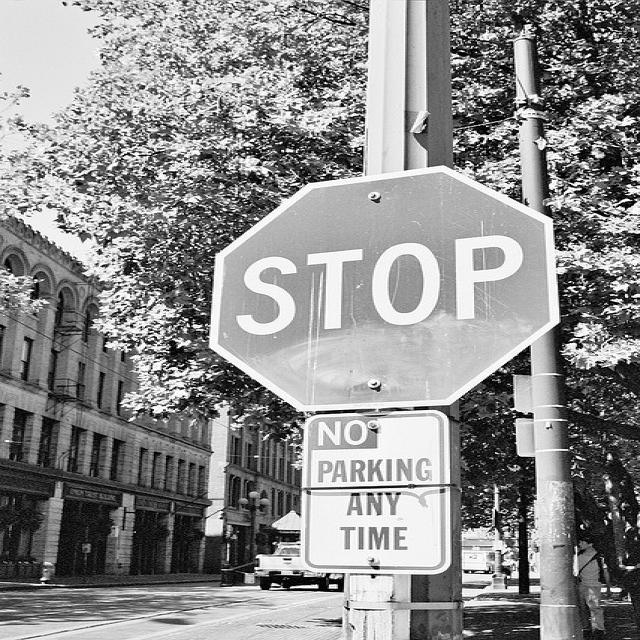pole: (504, 33, 594, 635)
truck: (253, 540, 347, 591), (459, 549, 494, 573)
